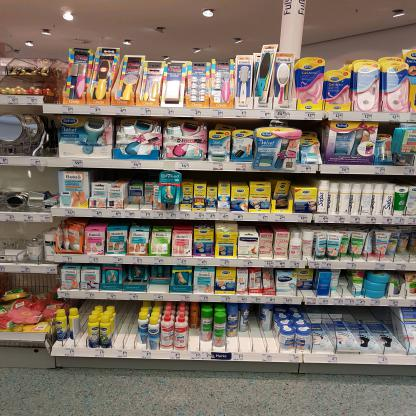Void: (114, 310, 132, 348), (72, 312, 87, 346), (238, 338, 274, 350)
